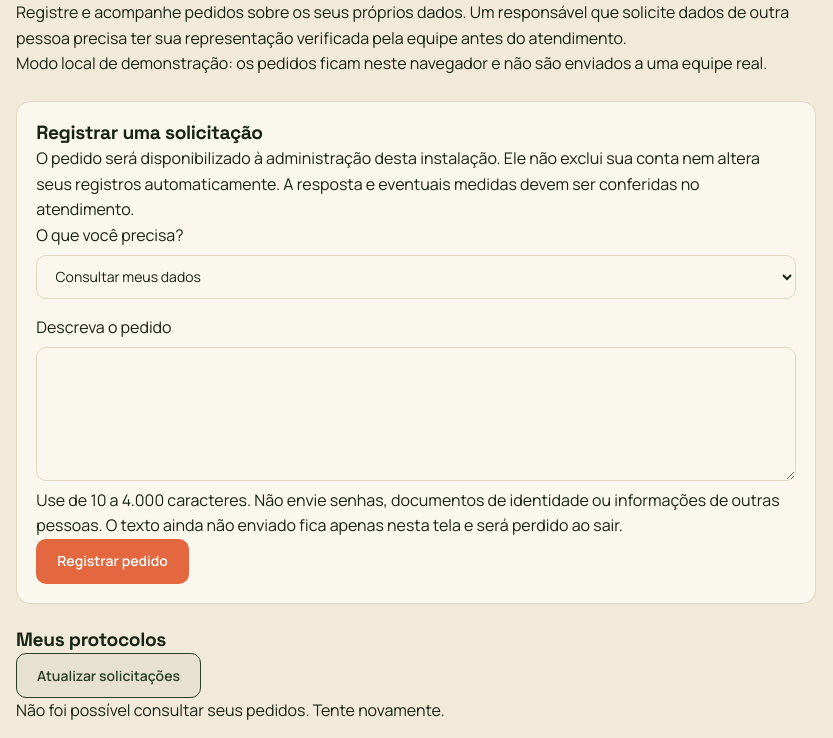
solicitações de privacidade acessíveis e verificáveis › mostra a falha de consulta sem afirmar que a pessoa não tem pedidos
(page scrolled)
Expected: the message "Não foi possível consultar seus pedidos. Tente novamente." is shown, [16,699,445,721]
Expected: the text "ainda não registrou pedidos" is not shown
What coordinates should you click on to do the following:
click the button "Atualizar solicitações"
I would click on:
 (108, 676)
Its box is [16,653,201,698].
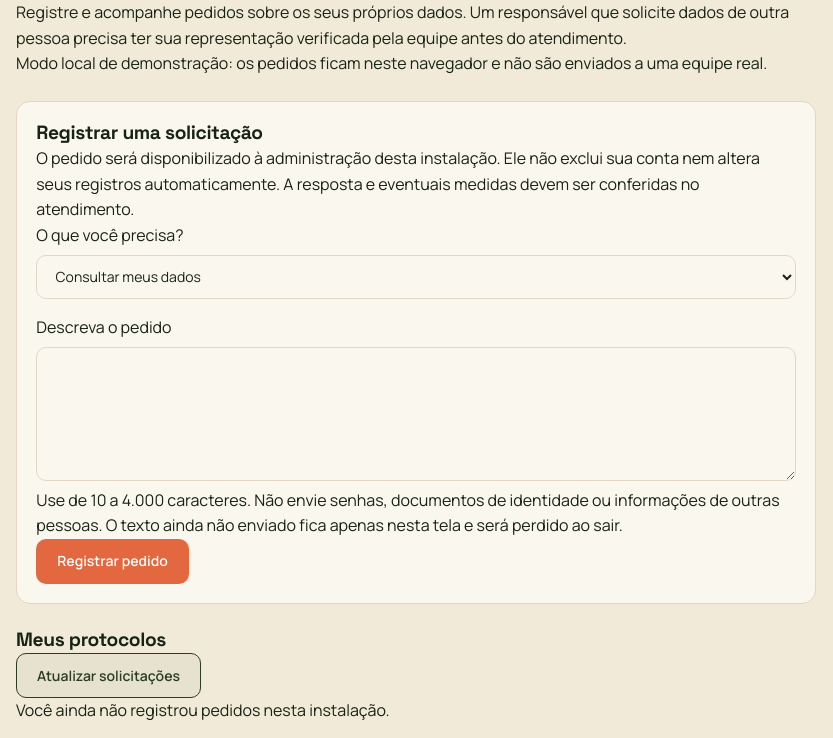
Result: the text "Você ainda não registrou pedidos nesta instalação." is shown at [16,699,390,721]
